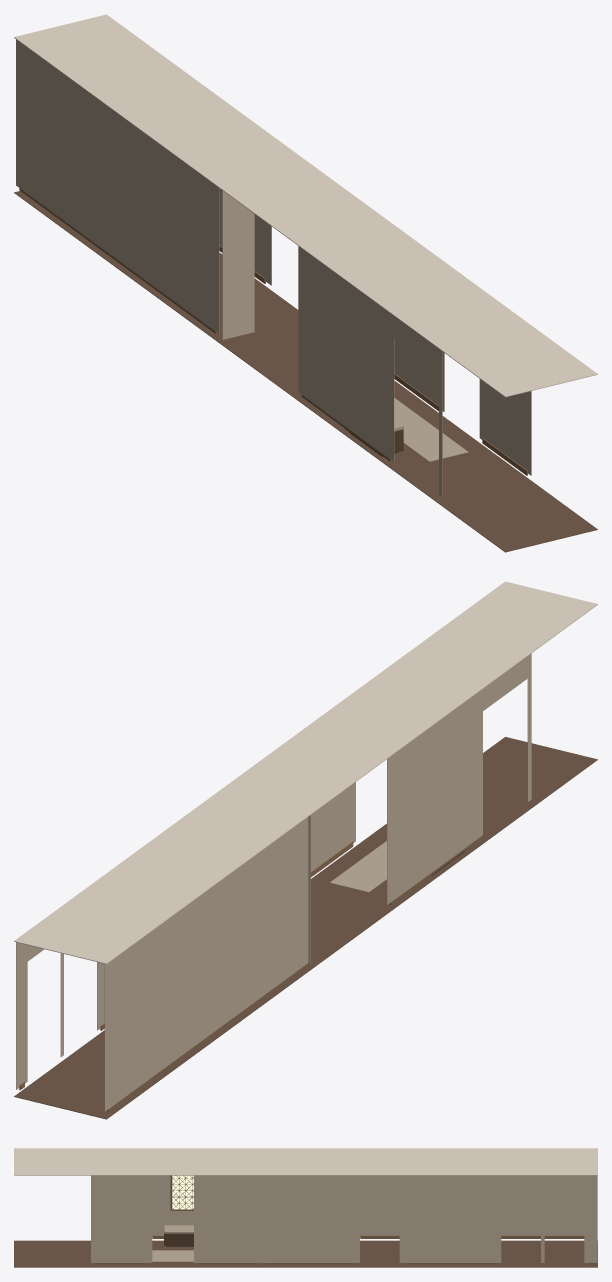
Rendered from corridor-2.glb.
The picture shows the model from 3 angles, top to bottom: view 1: azimuth 30°, elevation 25°; view 2: azimuth 150°, elevation 25°; view 3: azimuth 270°, elevation 25°; orthographic projection. The views are drawn at different scales.
Parts seen in each view (by area): view 1: DESIGN | Entrance coordinated ceiling, DESIGN | Entrance paired wall finish, DESIGN | Entrance floor finish, DESIGN | Entrance paired wall finish.003, DESIGN | Arch approach finish, DESIGN | Entrance paired wall finish.013, DESIGN | Entrance quiet runner, DESIGN | Entrance paired wall finish.012, DESIGN | Entrance paired wall finish.006, DESIGN | Entrance paired wall finish.002; view 2: DESIGN | Entrance coordinated ceiling, DESIGN | Entrance paired wall finish, DESIGN | Entrance floor finish, DESIGN | Entrance paired wall finish.003, DESIGN | Entrance paired wall finish.012, DESIGN | Entrance paired wall finish.005, DESIGN | Entrance quiet runner, DESIGN | Entrance paired wall finish.002, DESIGN | Entrance paired wall finish.001; view 3: DESIGN | Entrance coordinated ceiling, DESIGN | Entrance paired wall finish.006, DESIGN | Entrance paired wall finish.009, DESIGN | Entrance floor finish, DESIGN | Entrance paired wall finish.012, DESIGN | Entrance paired wall finish, DESIGN | Entrance paired wall finish.013, DESIGN | Entrance paired wall finish.003, DESIGN | Entrance paired wall finish.005, DESIGN | Kumiko opal diffuser, DESIGN | Entrance paired wall finish.007, DESIGN | Entrance paired wall finish.010 (+8 smaller).
Boxes of the visible parts, left/top/right/bottom form: DESIGN | Entrance coordinated ceiling: left=14, top=14, right=597, bottom=397; DESIGN | Entrance paired wall finish: left=16, top=39, right=219, bottom=333; DESIGN | Entrance floor finish: left=14, top=191, right=597, bottom=552; DESIGN | Entrance paired wall finish.003: left=298, top=246, right=394, bottom=461; DESIGN | Arch approach finish: left=222, top=190, right=254, bottom=339; DESIGN | Entrance paired wall finish.013: left=479, top=379, right=531, bottom=475; DESIGN | Entrance quiet runner: left=394, top=398, right=468, bottom=461; DESIGN | Entrance paired wall finish.012: left=394, top=339, right=444, bottom=411; DESIGN | Entrance paired wall finish.006: left=219, top=188, right=268, bottom=283; DESIGN | Entrance paired wall finish.002: left=394, top=316, right=438, bottom=370; DESIGN | Entrance coordinated ceiling: left=14, top=581, right=597, bottom=964; DESIGN | Entrance paired wall finish: left=104, top=817, right=308, bottom=1111; DESIGN | Entrance floor finish: left=14, top=737, right=597, bottom=1119; DESIGN | Entrance paired wall finish.003: left=387, top=689, right=482, bottom=904; DESIGN | Entrance paired wall finish.012: left=311, top=782, right=355, bottom=871; DESIGN | Entrance paired wall finish.005: left=16, top=942, right=27, bottom=1089; DESIGN | Entrance quiet runner: left=329, top=841, right=386, bottom=892; DESIGN | Entrance paired wall finish.002: left=483, top=656, right=527, bottom=710; DESIGN | Entrance paired wall finish.001: left=527, top=653, right=531, bottom=801; DESIGN | Entrance coordinated ceiling: left=14, top=1148, right=597, bottom=1175; DESIGN | Entrance paired wall finish.006: left=402, top=1175, right=501, bottom=1262; DESIGN | Entrance paired wall finish.009: left=262, top=1175, right=359, bottom=1262; DESIGN | Entrance floor finish: left=14, top=1240, right=597, bottom=1267; DESIGN | Entrance paired wall finish.012: left=194, top=1175, right=262, bottom=1262; DESIGN | Entrance paired wall finish: left=360, top=1176, right=584, bottom=1236; DESIGN | Entrance paired wall finish.013: left=91, top=1175, right=152, bottom=1262; DESIGN | Entrance paired wall finish.003: left=152, top=1175, right=193, bottom=1236; DESIGN | Entrance paired wall finish.005: left=584, top=1175, right=597, bottom=1262; DESIGN | Kumiko opal diffuser: left=172, top=1175, right=193, bottom=1209; DESIGN | Entrance paired wall finish.007: left=501, top=1175, right=540, bottom=1191; DESIGN | Entrance paired wall finish.010: left=360, top=1175, right=399, bottom=1191.
Size of the model in its own units: 1.7 by 2.73 by 15.61.
